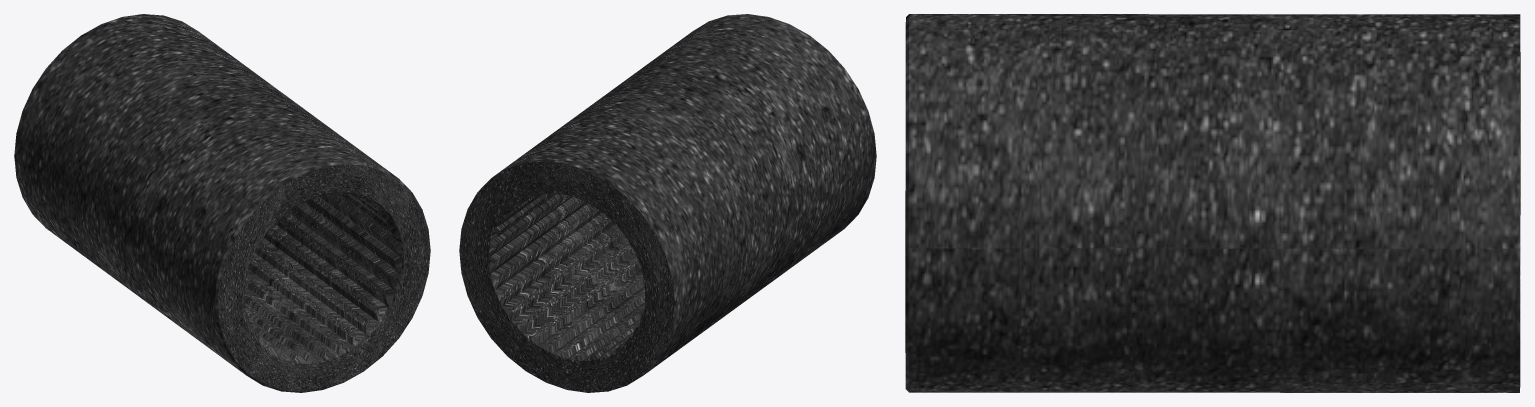
File: N1TuberiaCilindro.fbx
3 renders of one model, left to right at view 1: azimuth 30°, elevation 25°; view 2: azimuth 150°, elevation 25°; view 3: azimuth 270°, elevation 25°, orthographic. The views are drawn at different scales.
Visible parts, largest first — view 1: pCylinder23; view 2: pCylinder23; view 3: pCylinder23.
Part boxes in pixels (x1=…): pCylinder23: x1=14, y1=14, x2=430, y2=392; pCylinder23: x1=459, y1=14, x2=876, y2=392; pCylinder23: x1=905, y1=14, x2=1520, y2=392.
Size of the model in its own units: 618 by 616 by 1000.
Materials: 1 (1 with a texture image).
